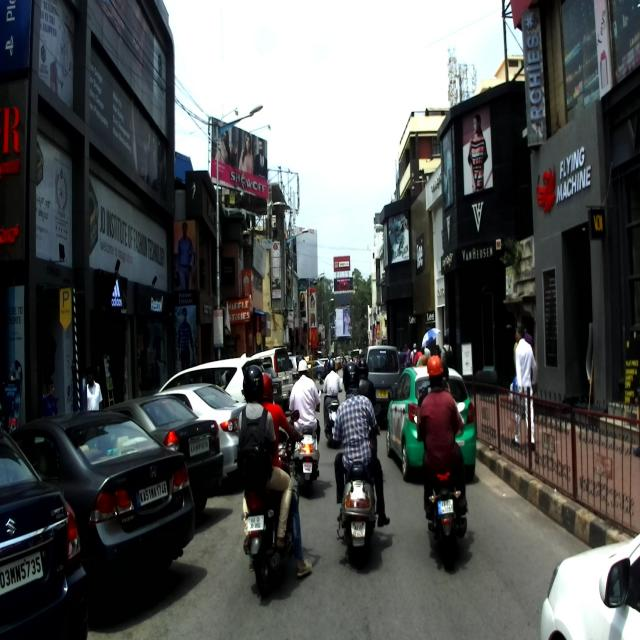car: (7, 410, 195, 625), (0, 429, 90, 639), (386, 364, 476, 482), (151, 383, 245, 486)
motorcycle: (241, 408, 304, 599), (413, 398, 467, 572)
scooter: (331, 403, 381, 568), (286, 389, 321, 498)
